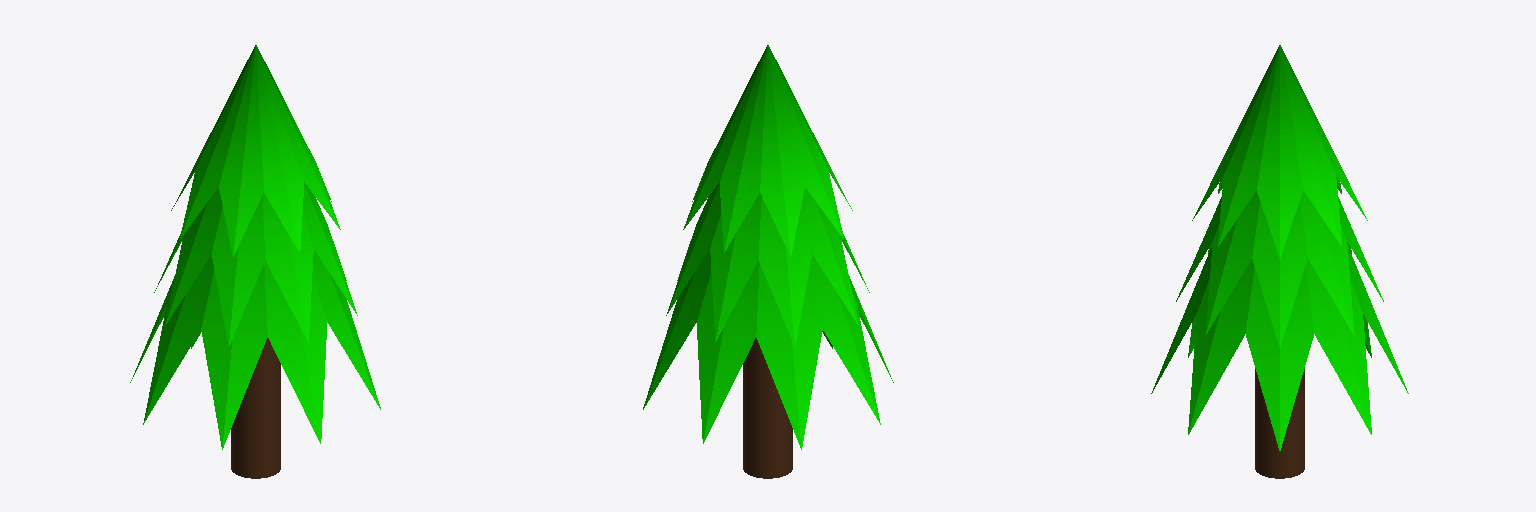
3 views of the same model, side by side, from view 1: azimuth 30°, elevation 25°; view 2: azimuth 150°, elevation 25°; view 3: azimuth 270°, elevation 25° (orthographic).
Visible parts, largest first — view 1: Leaves, Cylinder; view 2: Leaves, Cylinder; view 3: Leaves, Cylinder.
Part boxes in pixels (bbox=[...]): Leaves: bbox=[130, 45, 380, 449]; Cylinder: bbox=[231, 338, 280, 478]; Leaves: bbox=[643, 45, 893, 449]; Cylinder: bbox=[743, 338, 792, 478]; Leaves: bbox=[1151, 45, 1408, 450]; Cylinder: bbox=[1255, 369, 1304, 478].
Size of the model in its own units: 52.59 by 94.47 by 52.59.
Materials: 2 (2 with a texture image).